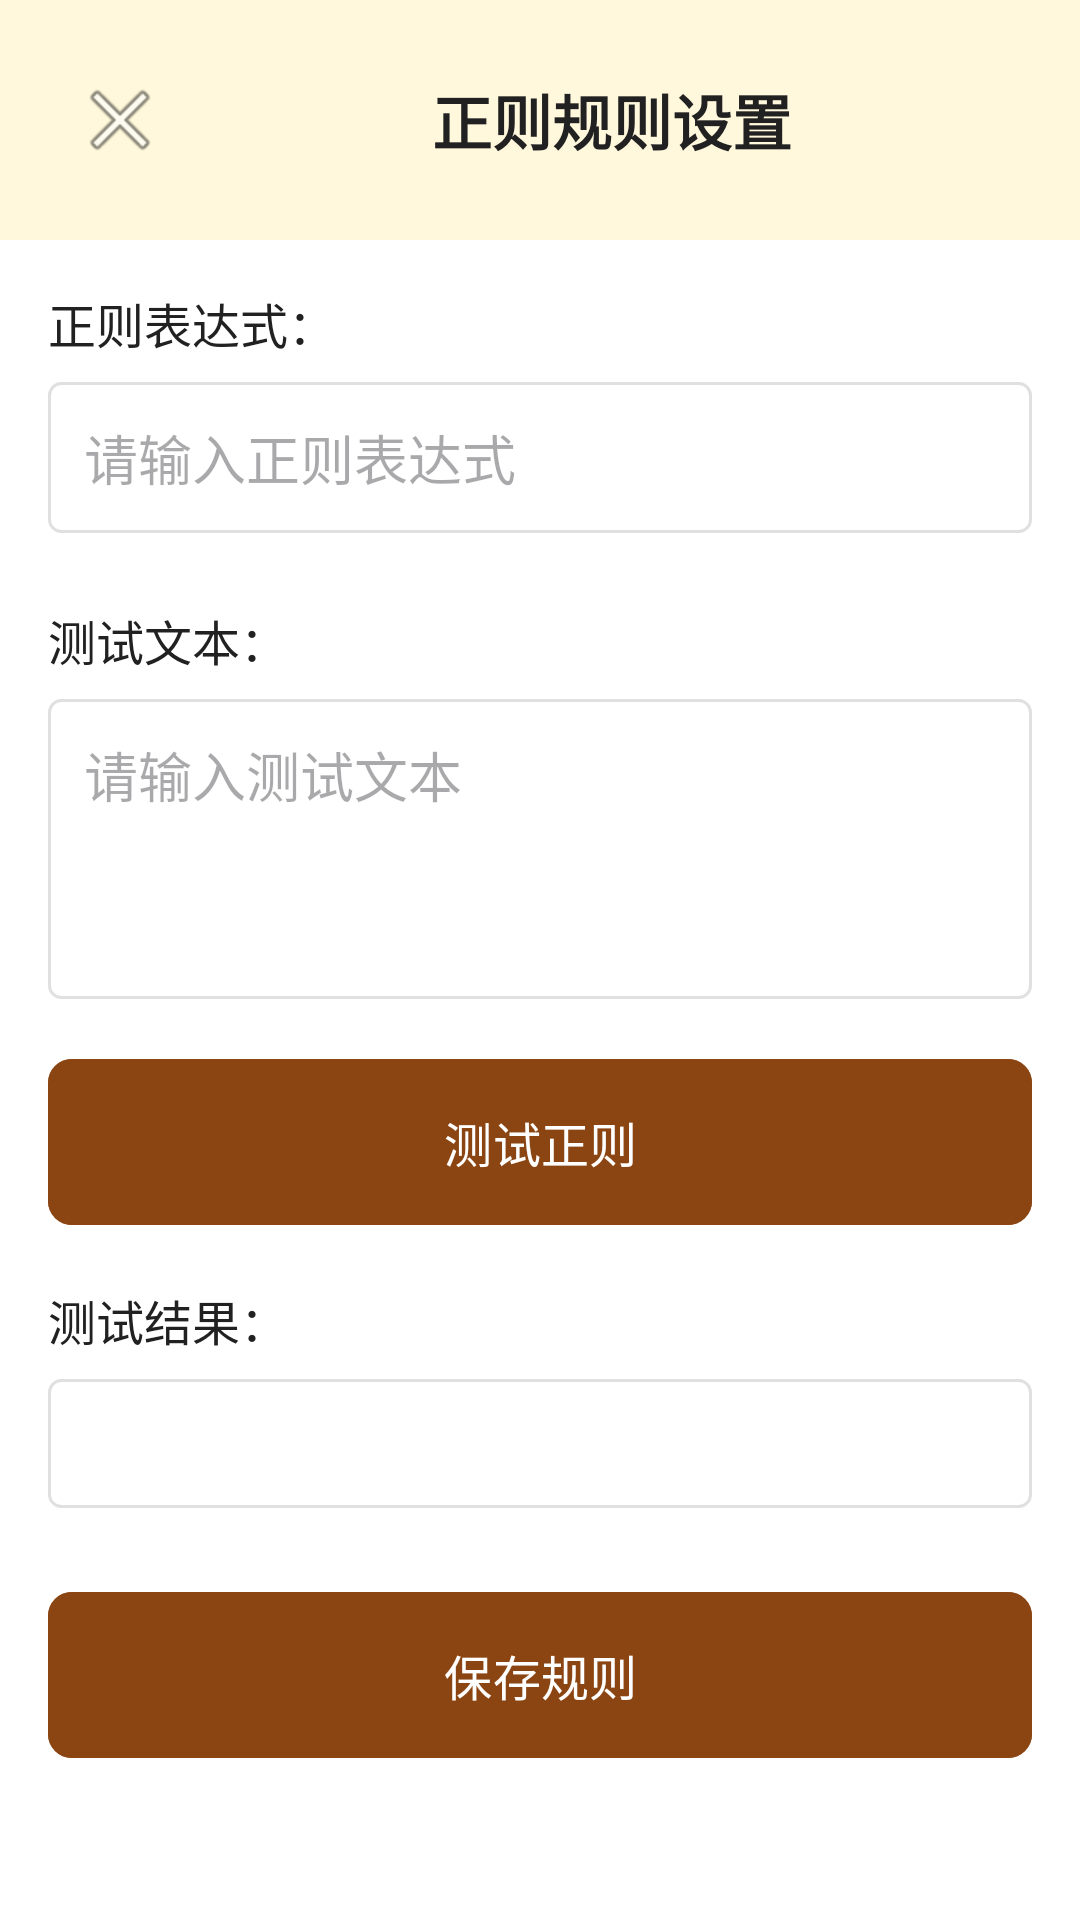

Screen size 1080px×1920px. Icon name, then its center in pixels as (x,y):
返回: (120,120)
